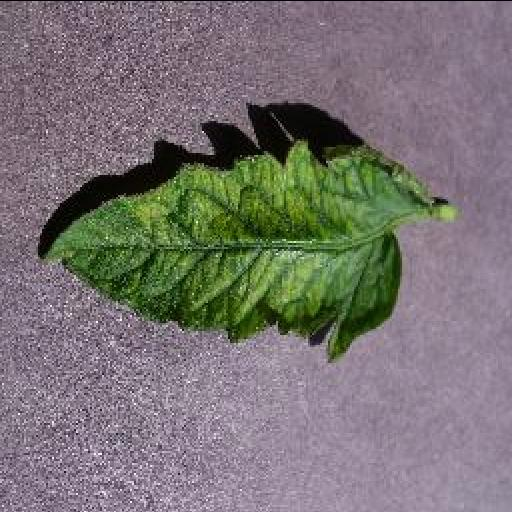disease_tomato: (36, 138, 430, 372)
